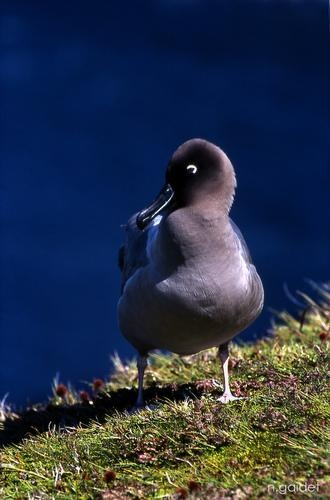bird: (104, 138, 265, 412)
